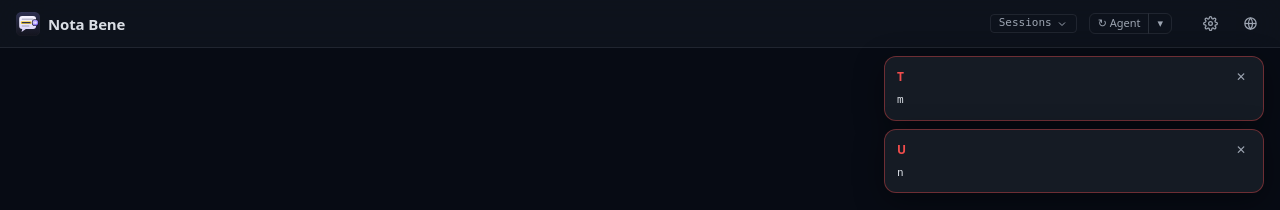
the close button (with an aria-label) closes it
What coordinates should you click on to do the following:
click the button named "Close"
I would click on:
 (1241, 77)
Its box is 1231,67 -> 1251,87.
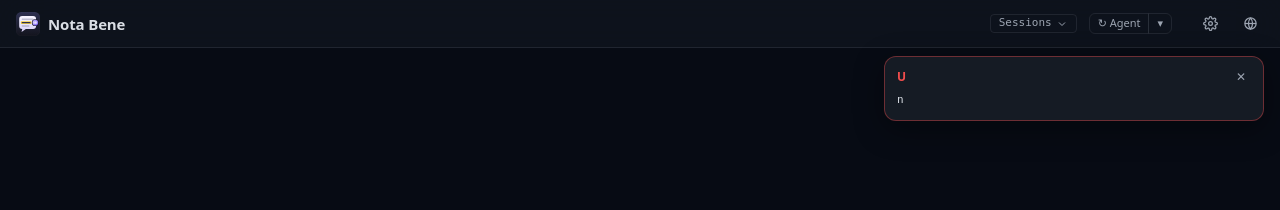
Check: the element with test id "toast" shows "U", box 897,68 -> 906,85
Check: the number of elements with test id "toast" is 1, box 884,56 -> 1264,121
